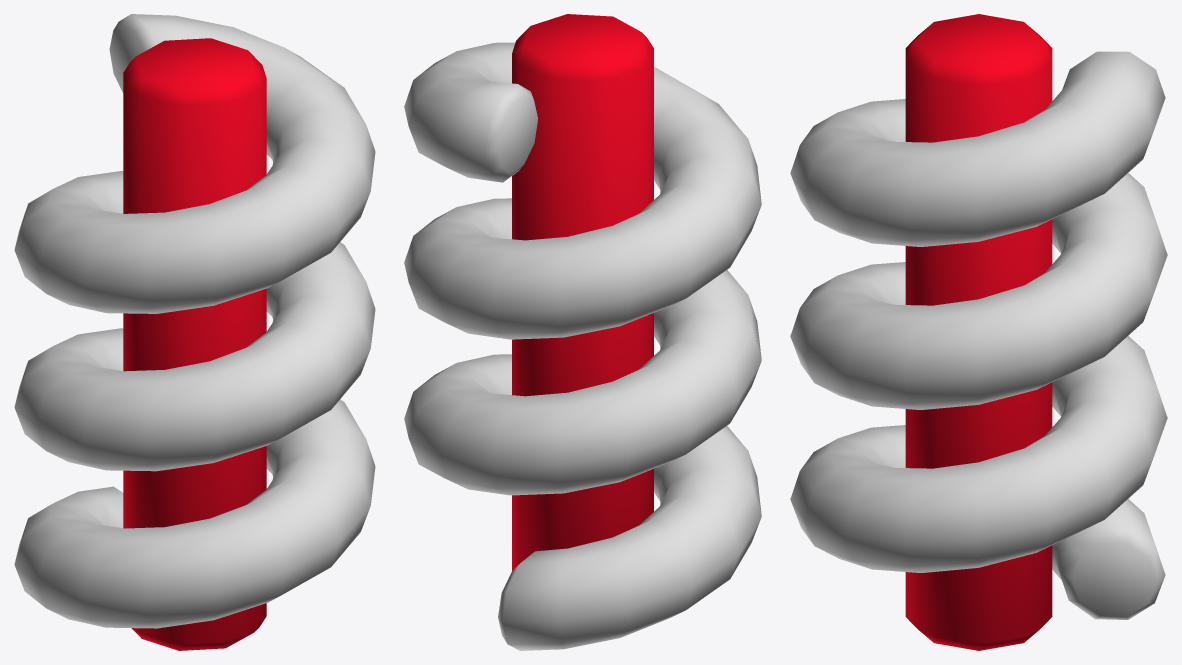
The model's file is railring.glb.
3 views of the same model, side by side, from view 1: azimuth 30°, elevation 25°; view 2: azimuth 150°, elevation 25°; view 3: azimuth 270°, elevation 25° (orthographic). The views are drawn at different scales.
Parts seen in each view (by area): view 1: Circle, Cylinder; view 2: Circle, Cylinder; view 3: Circle, Cylinder.
Boxes of the visible parts, box(x1,y1,x2,y2) form: Circle: box(14, 14, 375, 628); Cylinder: box(123, 38, 266, 650); Circle: box(404, 42, 761, 650); Cylinder: box(512, 14, 653, 570); Circle: box(790, 51, 1167, 619); Cylinder: box(905, 14, 1052, 650).
Size of the model in its own units: 1.34 by 2.29 by 1.34.
